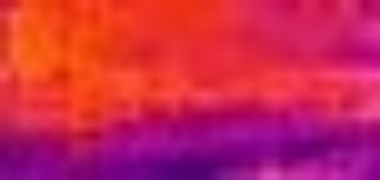Shadow: (1, 118, 380, 180)
